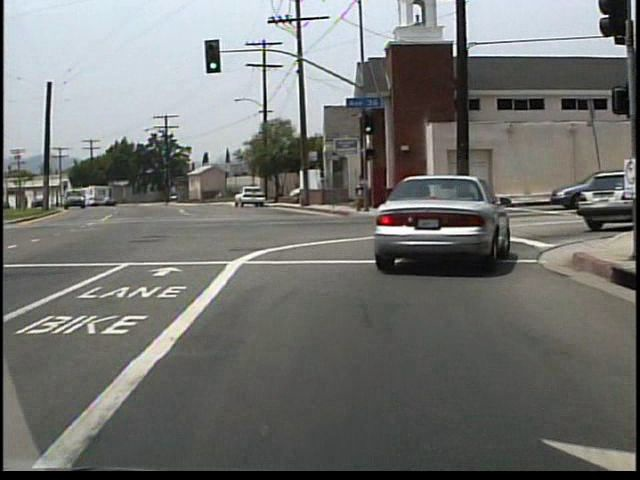person: (353, 173, 367, 212)
